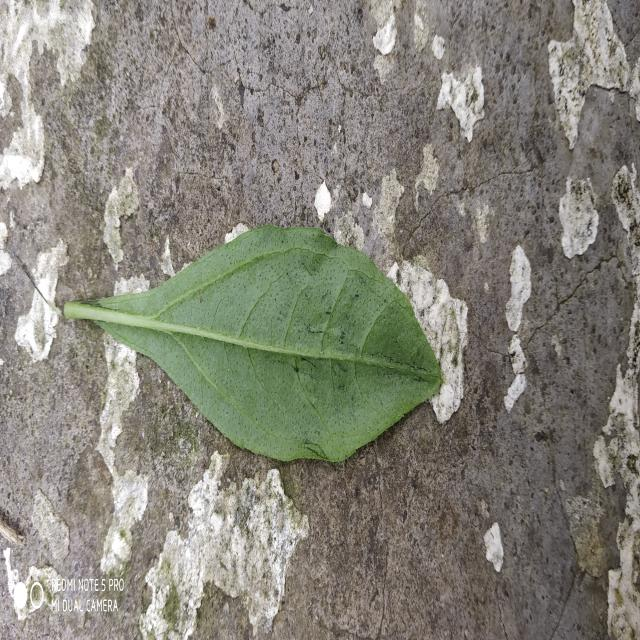bringaraja: (64, 225, 441, 462)
defectedbringaraja: (284, 260, 396, 430)
